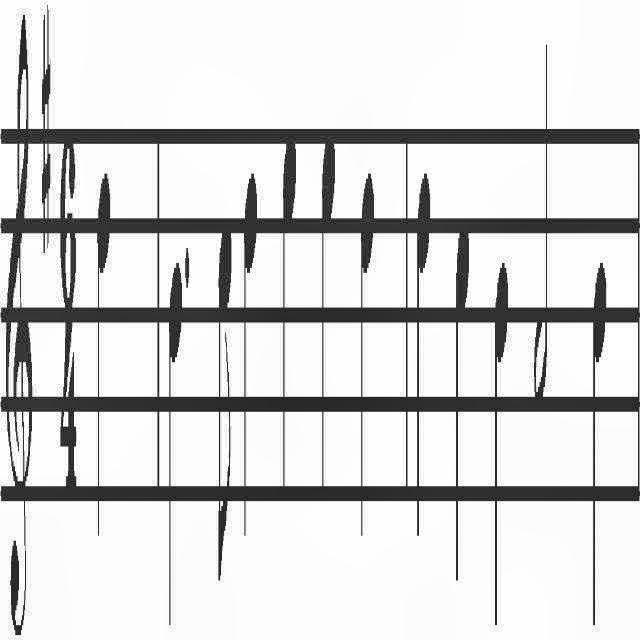Bass-clef: (4, 5, 34, 640)
Diez: (40, 5, 52, 256)
Eighth-note: (216, 215, 234, 593)
Half-note: (534, 33, 548, 419)
Quarter-note: (454, 212, 471, 600), (282, 124, 298, 512), (360, 165, 376, 551), (96, 166, 112, 548), (414, 166, 430, 546), (494, 256, 510, 634), (592, 259, 608, 631), (321, 124, 335, 520), (243, 163, 257, 552), (168, 256, 182, 634)
